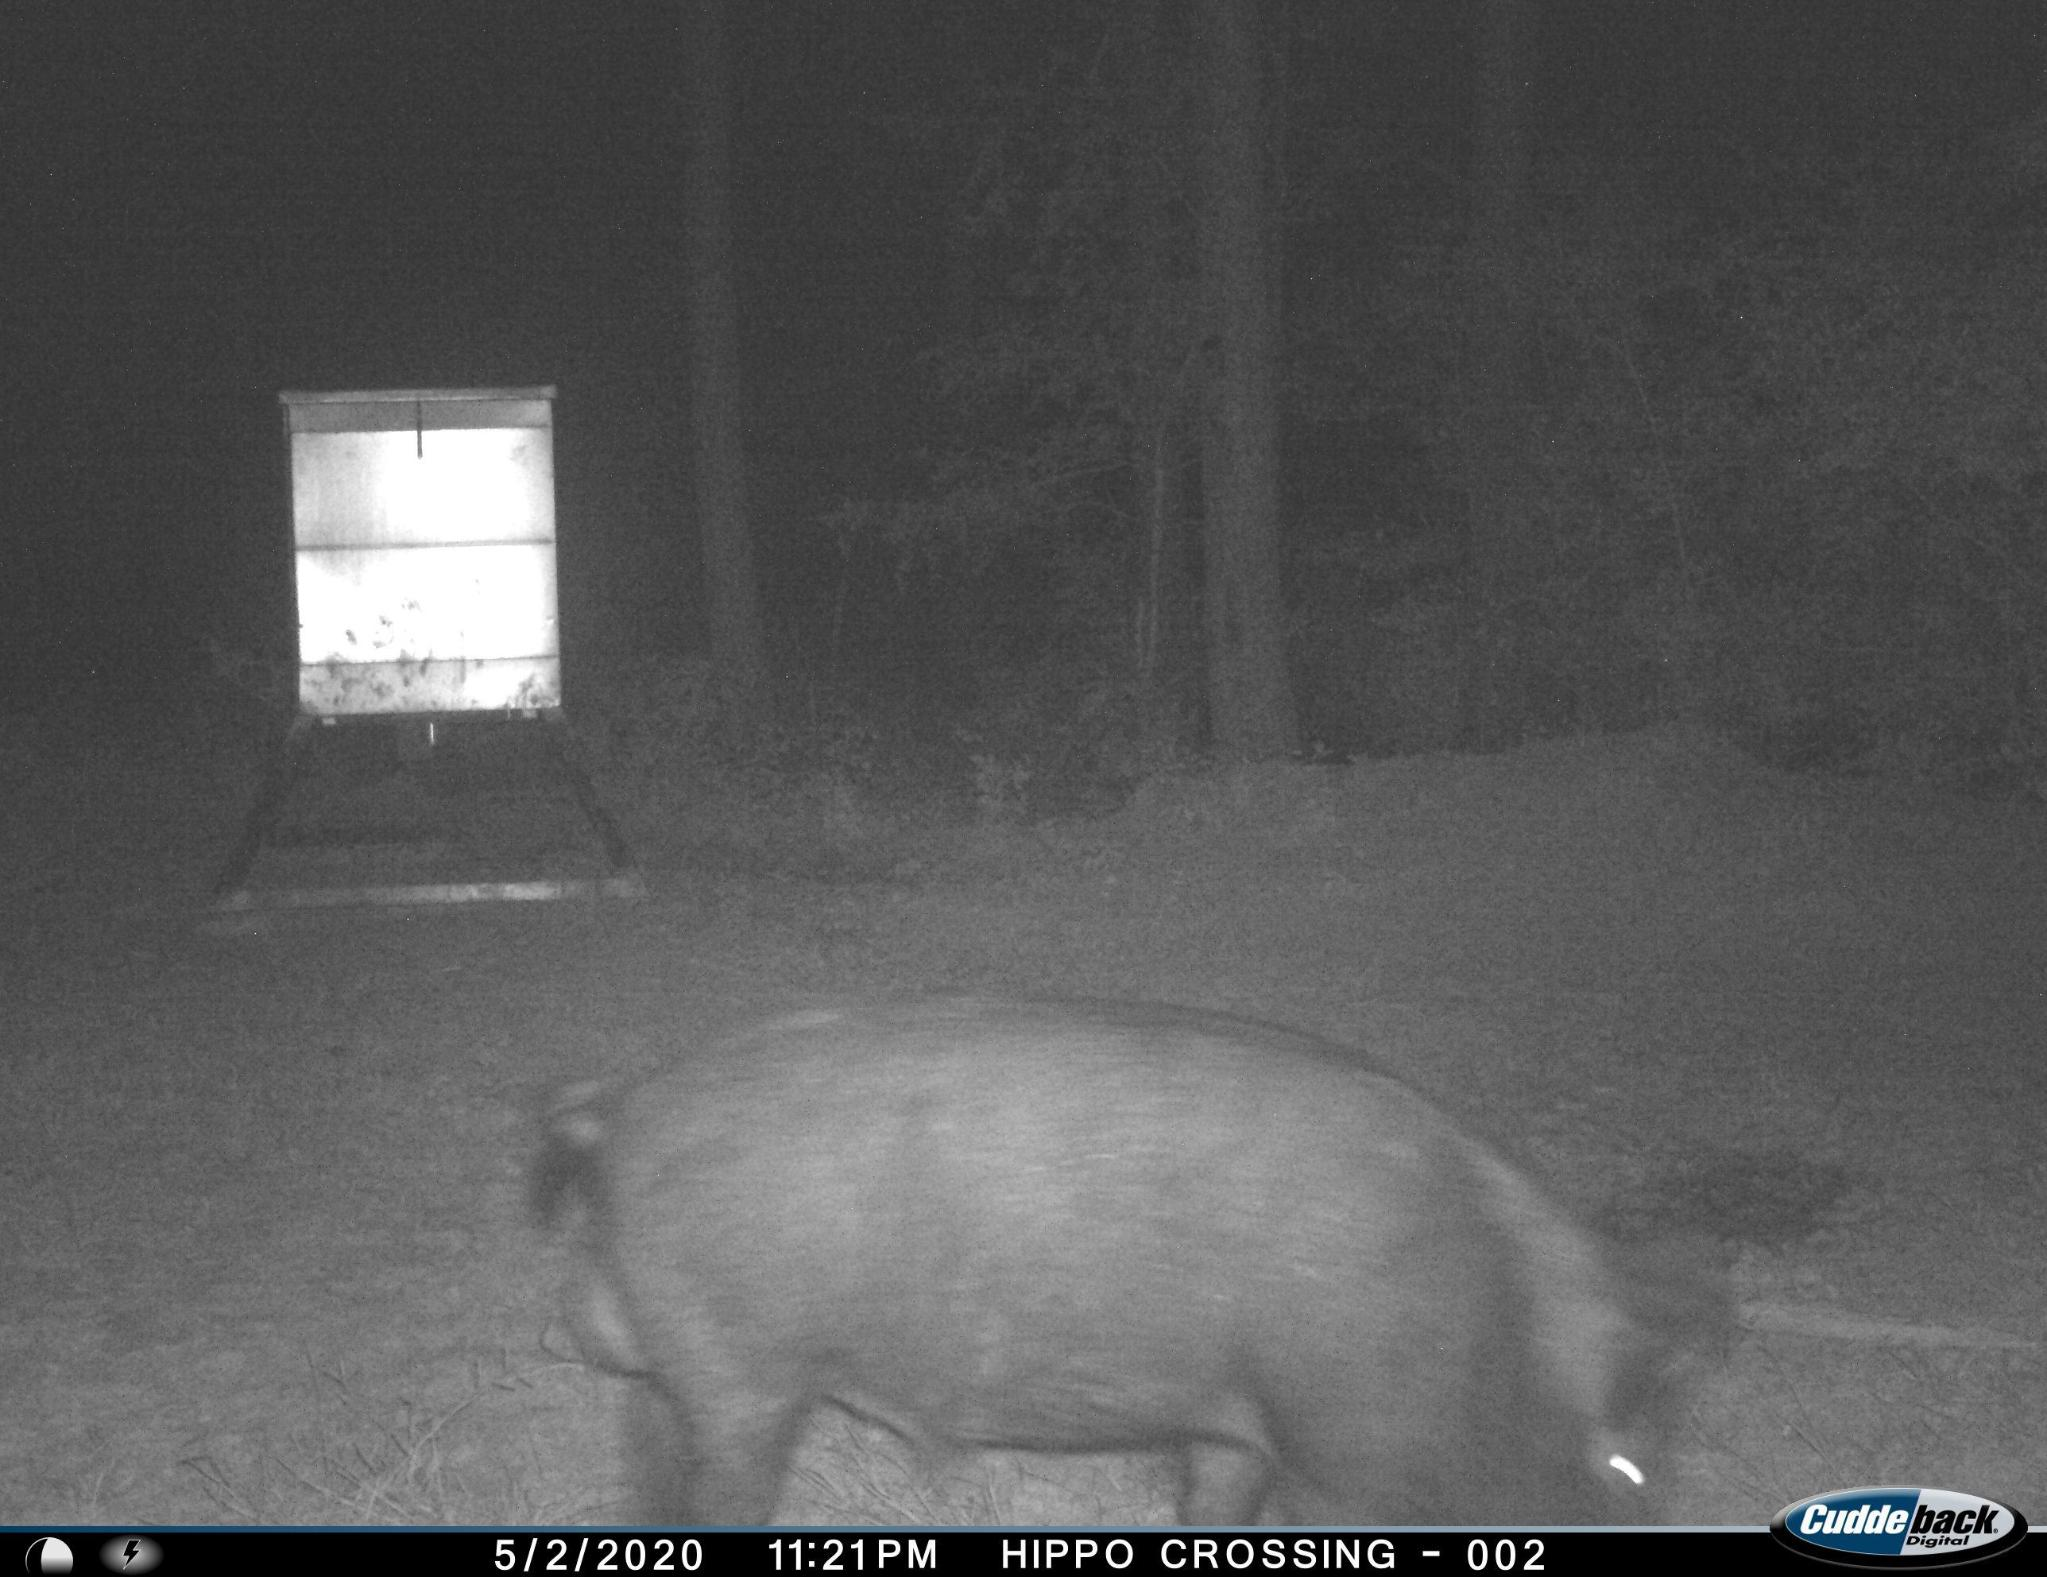Hog: (543, 971, 1722, 1527)
